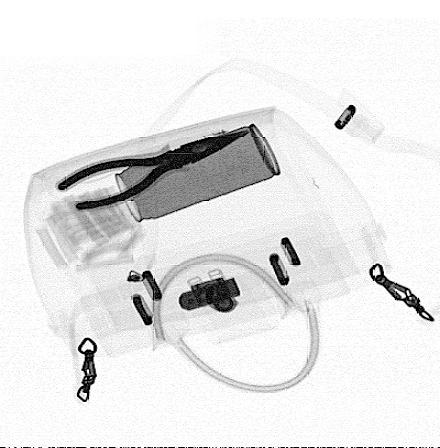Pliers: (54, 129, 248, 212)
